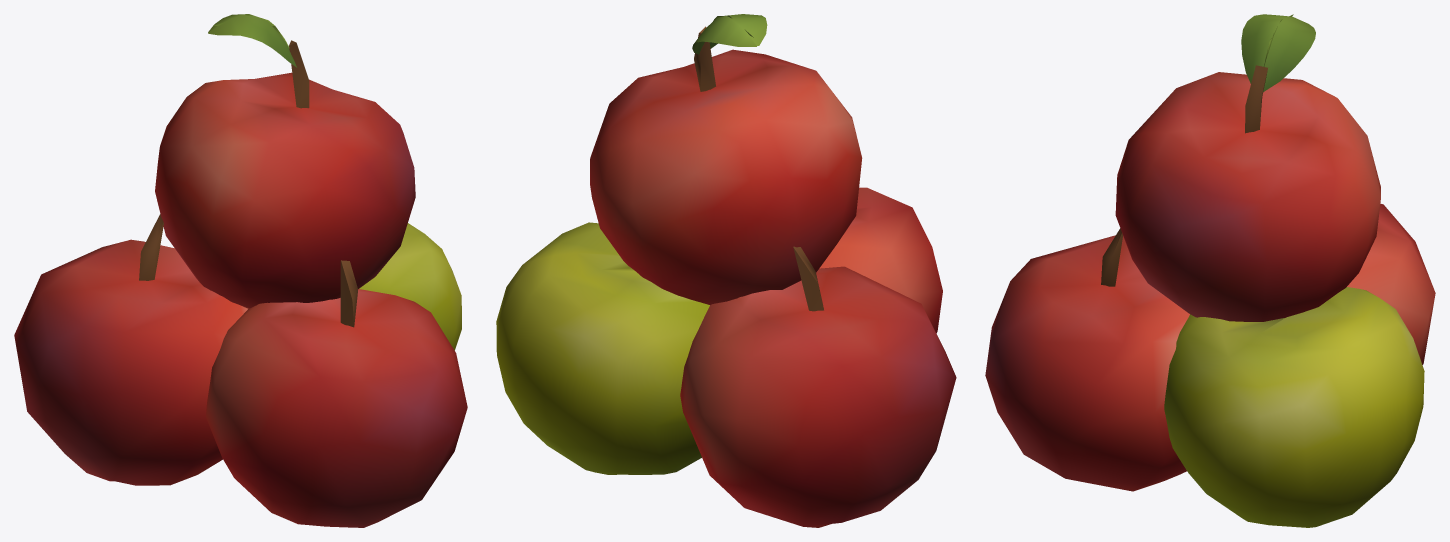
Rendered from apple_pile.glb.
The picture shows the model from 3 angles, left to right: view 1: azimuth 30°, elevation 25°; view 2: azimuth 150°, elevation 25°; view 3: azimuth 270°, elevation 25°; orthographic projection. The views are drawn at different scales.
Visible parts, largest first — view 1: Plant; view 2: Plant; view 3: Plant.
Part boxes in pixels (<box>): Plant: <box>14,14,467,527</box>; Plant: <box>496,14,956,527</box>; Plant: <box>985,14,1435,527</box>.
Bounding box in the file's own units: 0.5626 × 0.5862 × 0.531.
